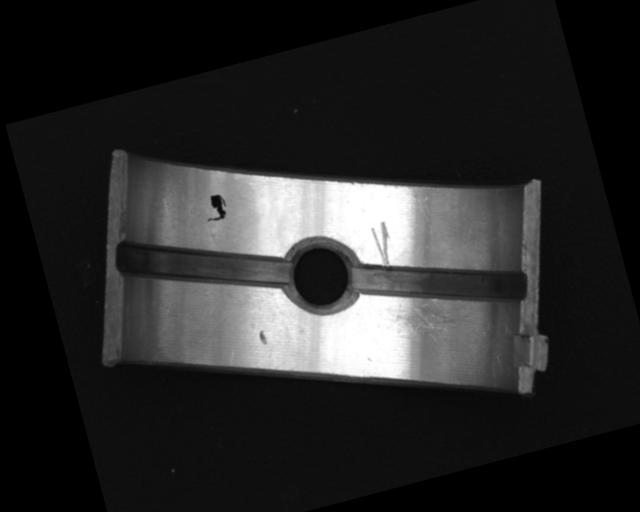blot: (200, 191, 231, 224)
bruise: (257, 327, 269, 347)
gap: (112, 204, 294, 325), (349, 225, 530, 339)
hole: (274, 230, 366, 321)
nick: (369, 220, 398, 269)
scratch: (377, 283, 489, 360)
